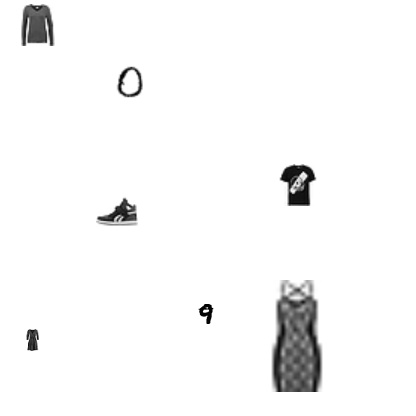0: (108, 61, 150, 103)
9: (192, 298, 220, 326)
Dress: (241, 280, 353, 392), (21, 329, 43, 351)
Pullover: (17, 4, 59, 46)
Sneaker: (96, 191, 138, 233)
T-shirt/top: (277, 164, 319, 206)
